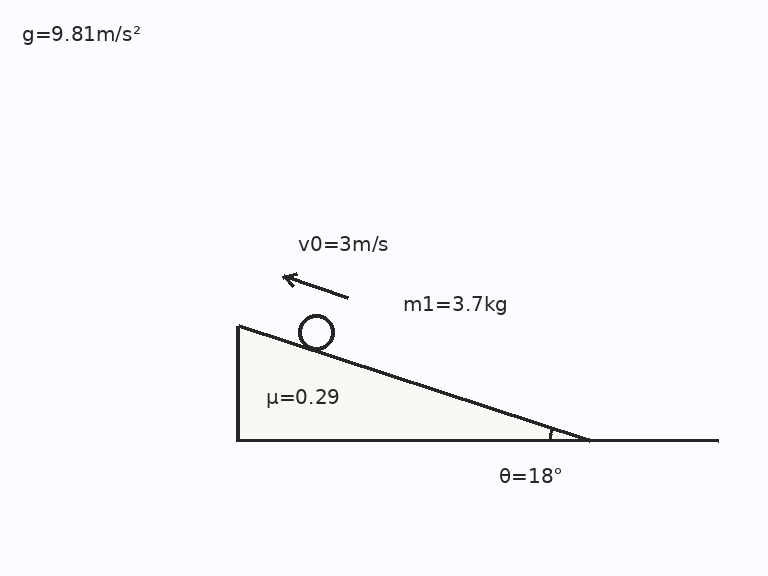ball: (296, 312, 336, 352)
ramp: (236, 324, 592, 442)
